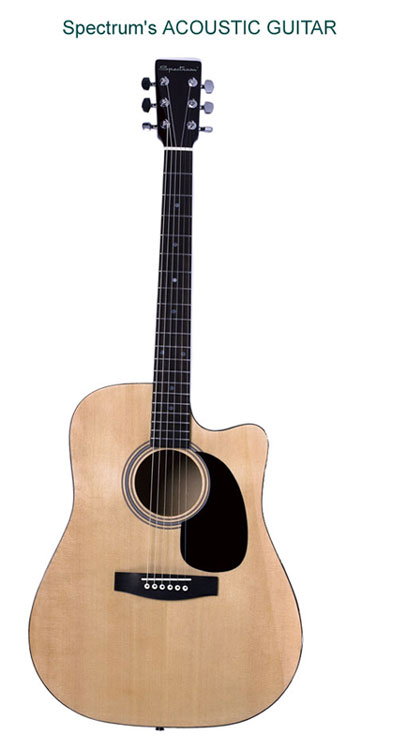guitar: (28, 58, 306, 729)
